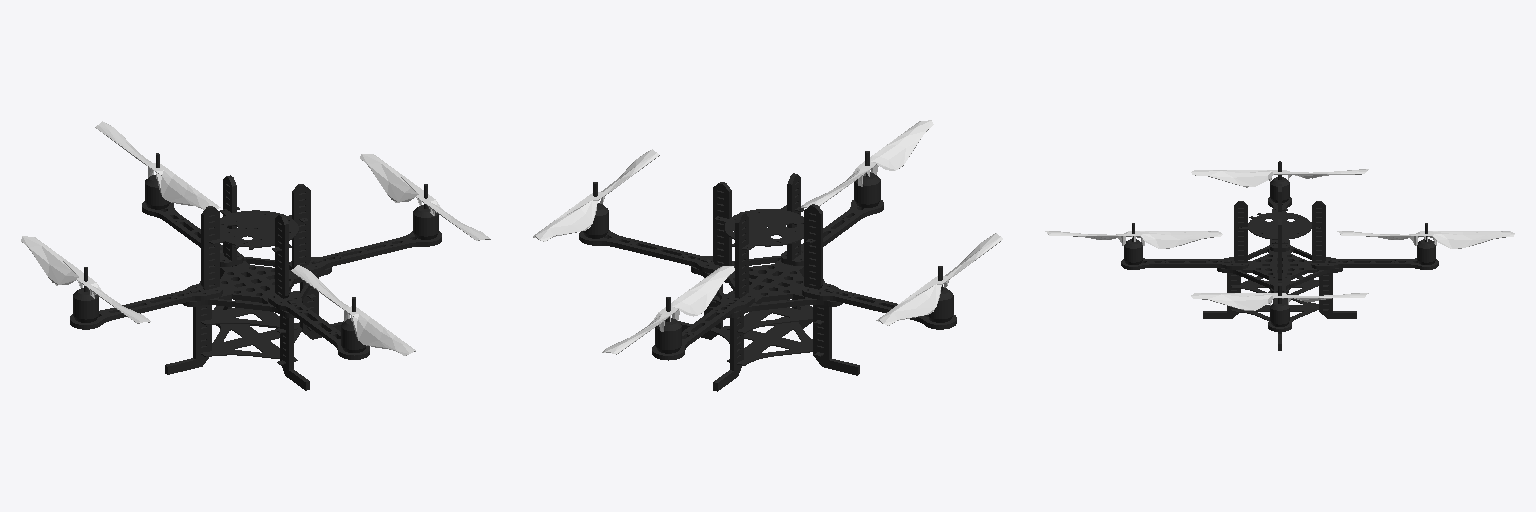
robot.urdf — pelican:
<?xml version="1.0" encoding="utf-8"?>
<!-- =================================================================================== -->
<!-- |    This document was autogenerated by xacro from pelican.xacro                  | -->
<!-- |    EDITING THIS FILE BY HAND IS NOT RECOMMENDED                                 | -->
<!-- =================================================================================== -->
<!--
  Copyright 2015 [author], ASL, ETH Zurich, Switzerland
  Copyright 2015 [author], ASL, ETH Zurich, Switzerland
  Copyright 2015 [author], ASL, ETH Zurich, Switzerland
  Copyright 2015 [author], ASL, ETH Zurich, Switzerland
  Copyright 2015 [author], ASL, ETH Zurich, Switzerland

  Licensed under the Apache License, Version 2.0 (the "License");
  you may not use this file except in compliance with the License.
  You may obtain a copy of the License at

  http://www.apache.org/licenses/LICENSE-2.0

  Unless required by applicable law or agreed to in writing, software
  distributed under the License is distributed on an "AS IS" BASIS,
  WITHOUT WARRANTIES OR CONDITIONS OF ANY KIND, either express or implied.
  See the License for the specific language governing permissions and
  limitations under the License.
-->
<robot name="pelican">
  <material name="black">
    <color rgba="0.2 0.2 0.2 1"/>
  </material>
  <material name="white">
    <color rgba="0.90 0.90 0.90 1.0"/>
  </material>

  <link name="base_link">
    <inertial>
      <mass value="1.0"/>
      <!-- [kg] -->
      <origin xyz="0 0 0"/>
      <inertia ixx="0.01" ixy="0.0" ixz="0.0" iyy="0.01" iyz="0.0" izz="0.02"/>
    </inertial>
    <visual>
      <origin rpy="0 0 0" xyz="0 0 0"/>
      <geometry>
        <mesh filename="mesh/pelican.obj" scale="1 1 1"/>
      </geometry>
      <material name="black"/>
    </visual>
    <collision>
      <origin rpy="0 0 0" xyz="0 0 0"/>
      <geometry>
        <box size="0.1 0.1 0.2"/>
        <!-- [m] [m] [m] -->
      </geometry>
    </collision>
  </link>
  <joint name="rotor_0_joint" type="continuous">
    <origin rpy="0 0 0" xyz="0.21 0 0.05"/>
    <axis xyz="0 0 1"/>
    <!-- TODO(ff): not currently set because it's not yet supported -->
    <!-- <limit effort="2000" velocity="${max_rot_velocity}" /> -->
    <parent link="base_link"/>
    <child link="rotor_0"/>
  </joint>
  <link name="rotor_0">
    <inertial>
      <mass value="0.01"/>
      <!-- [kg] -->
      <inertia ixx="1.94999922e-06" ixy="0.0" ixz="0.0" iyy="0.00013660827869" iyz="0.0" izz="0.00013840827797"/>
    </inertial>
    <visual>
      <geometry>
        <mesh filename="mesh/propeller_cw.obj" scale="0.128 0.128 0.128"/>
        <!-- The propeller meshes have a radius of 1m -->
        <!-- <box size="${2*radius_rotor} 0.01 0.005"/> -->
      </geometry>
      <material name="white"/>
    </visual>
    <collision>
      <geometry>
        <cylinder length="0.005" radius="0.128"/>
        <!-- [m] -->
      </geometry>
    </collision>
  </link>
  <joint name="rotor_1_joint" type="continuous">
    <origin rpy="0 0 0" xyz="0 0.21 0.05"/>
    <axis xyz="0 0 1"/>
    <!-- TODO(ff): not currently set because it's not yet supported -->
    <!-- <limit effort="2000" velocity="${max_rot_velocity}" /> -->
    <parent link="base_link"/>
    <child link="rotor_1"/>
  </joint>
  <link name="rotor_1">
    <inertial>
      <mass value="0.01"/>
      <!-- [kg] -->
      <inertia ixx="1.94999922e-06" ixy="0.0" ixz="0.0" iyy="0.00013660827869" iyz="0.0" izz="0.00013840827797"/>
    </inertial>
    <visual>
      <geometry>
        <mesh filename="mesh/propeller_ccw.obj" scale="0.128 0.128 0.128"/>
        <!-- The propeller meshes have a radius of 1m -->
        <!-- <box size="${2*radius_rotor} 0.01 0.005"/> -->
      </geometry>
      <material name="white"/>
    </visual>
    <collision>
      <geometry>
        <cylinder length="0.005" radius="0.128"/>
        <!-- [m] -->
      </geometry>
    </collision>
  </link>
  <joint name="rotor_2_joint" type="continuous">
    <origin rpy="0 0 0" xyz="-0.21 0 0.05"/>
    <axis xyz="0 0 1"/>
    <!-- TODO(ff): not currently set because it's not yet supported -->
    <!-- <limit effort="2000" velocity="${max_rot_velocity}" /> -->
    <parent link="base_link"/>
    <child link="rotor_2"/>
  </joint>
  <link name="rotor_2">
    <inertial>
      <mass value="0.01"/>
      <!-- [kg] -->
      <inertia ixx="1.94999922e-06" ixy="0.0" ixz="0.0" iyy="0.00013660827869" iyz="0.0" izz="0.00013840827797"/>
    </inertial>
    <visual>
      <geometry>
        <mesh filename="mesh/propeller_cw.obj" scale="0.128 0.128 0.128"/>
        <!-- The propeller meshes have a radius of 1m -->
        <!-- <box size="${2*radius_rotor} 0.01 0.005"/> -->
      </geometry>
      <material name="white"/>
    </visual>
    <collision>
      <geometry>
        <cylinder length="0.005" radius="0.128"/>
        <!-- [m] -->
      </geometry>
    </collision>
  </link>
  <joint name="rotor_3_joint" type="continuous">
    <origin rpy="0 0 0" xyz="0 -0.21 0.05"/>
    <axis xyz="0 0 1"/>
    <!-- TODO(ff): not currently set because it's not yet supported -->
    <!-- <limit effort="2000" velocity="${max_rot_velocity}" /> -->
    <parent link="base_link"/>
    <child link="rotor_3"/>
  </joint>
  <link name="rotor_3">
    <inertial>
      <mass value="0.01"/>
      <!-- [kg] -->
      <inertia ixx="1.94999922e-06" ixy="0.0" ixz="0.0" iyy="0.00013660827869" iyz="0.0" izz="0.00013840827797"/>
    </inertial>
    <visual>
      <geometry>
        <mesh filename="mesh/propeller_ccw.obj" scale="0.128 0.128 0.128"/>
        <!-- The propeller meshes have a radius of 1m -->
        <!-- <box size="${2*radius_rotor} 0.01 0.005"/> -->
      </geometry>
      <material name="white"/>
    </visual>
    <collision>
      <geometry>
        <cylinder length="0.005" radius="0.128"/>
        <!-- [m] -->
      </geometry>
    </collision>
  </link>
</robot>

--- Render facts (derived) ---
3 views of the same robot in one strip: view 1: azimuth 30°, elevation 25°; view 2: azimuth 150°, elevation 25°; view 3: azimuth 270°, elevation 25° (orthographic).
Model pelican with 5 links and 4 joints (4 continuous), rooted at base_link, posed every joint at zero.
Links seen in each view (by area): view 1: base_link, rotor_3, rotor_0, rotor_2, rotor_1; view 2: base_link, rotor_1, rotor_3, rotor_0, rotor_2; view 3: base_link, rotor_3, rotor_1, rotor_0, rotor_2.
Boxes of the visible links, x1,y1,x2,y2 form: base_link: [70, 153, 441, 390]; rotor_3: [291, 265, 415, 355]; rotor_0: [360, 154, 490, 240]; rotor_2: [21, 236, 150, 323]; rotor_1: [95, 121, 220, 209]; base_link: [579, 151, 956, 391]; rotor_1: [602, 266, 734, 354]; rotor_3: [801, 120, 933, 207]; rotor_0: [533, 149, 659, 241]; rotor_2: [876, 233, 1002, 325]; base_link: [1121, 161, 1438, 350]; rotor_3: [1045, 231, 1222, 248]; rotor_1: [1337, 231, 1514, 248]; rotor_0: [1191, 293, 1368, 310]; rotor_2: [1191, 169, 1368, 187].
Size in the robot's own frame: 0.4558 by 0.6768 by 0.185 metres.
Meshes: 3 distinct files referenced, 5 mesh visuals loaded (3 OBJ).